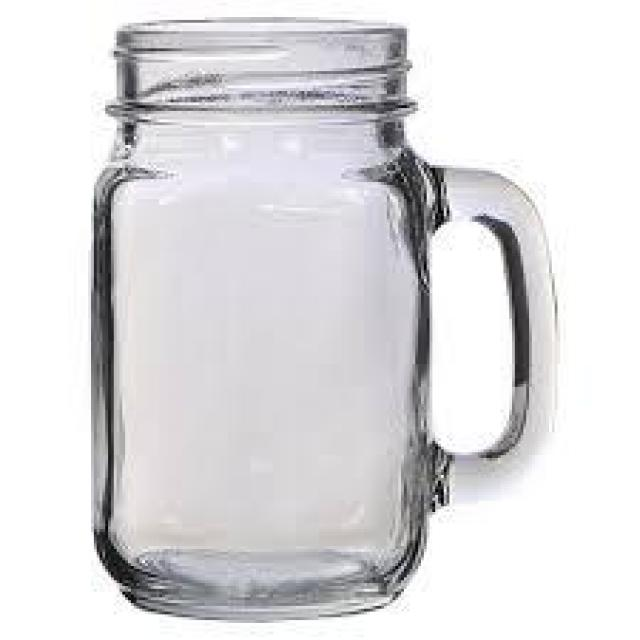non-organic waste: (84, 13, 565, 621)
